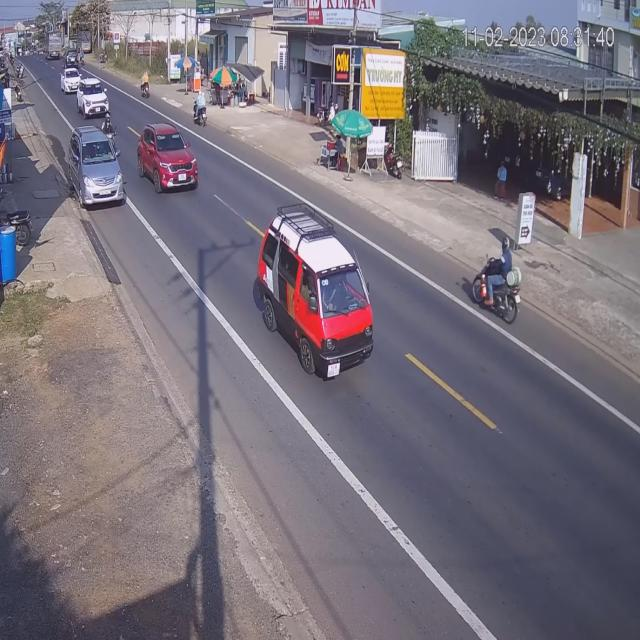car: (258, 212, 376, 376), (68, 124, 125, 208), (138, 120, 198, 195), (79, 77, 111, 120), (63, 64, 80, 95)
motorbike: (471, 237, 523, 327), (194, 93, 209, 126), (140, 70, 150, 101)
truck: (47, 35, 64, 62)
